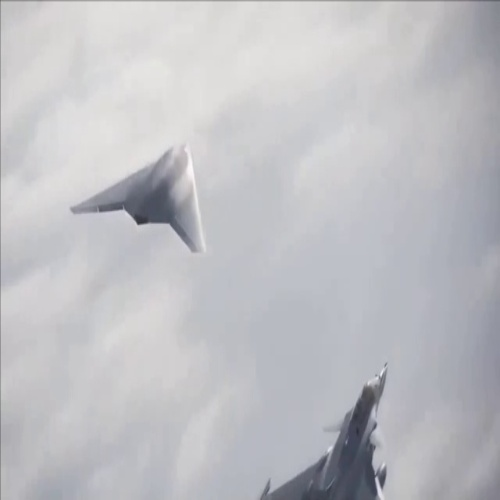uav: (70, 137, 209, 255)
